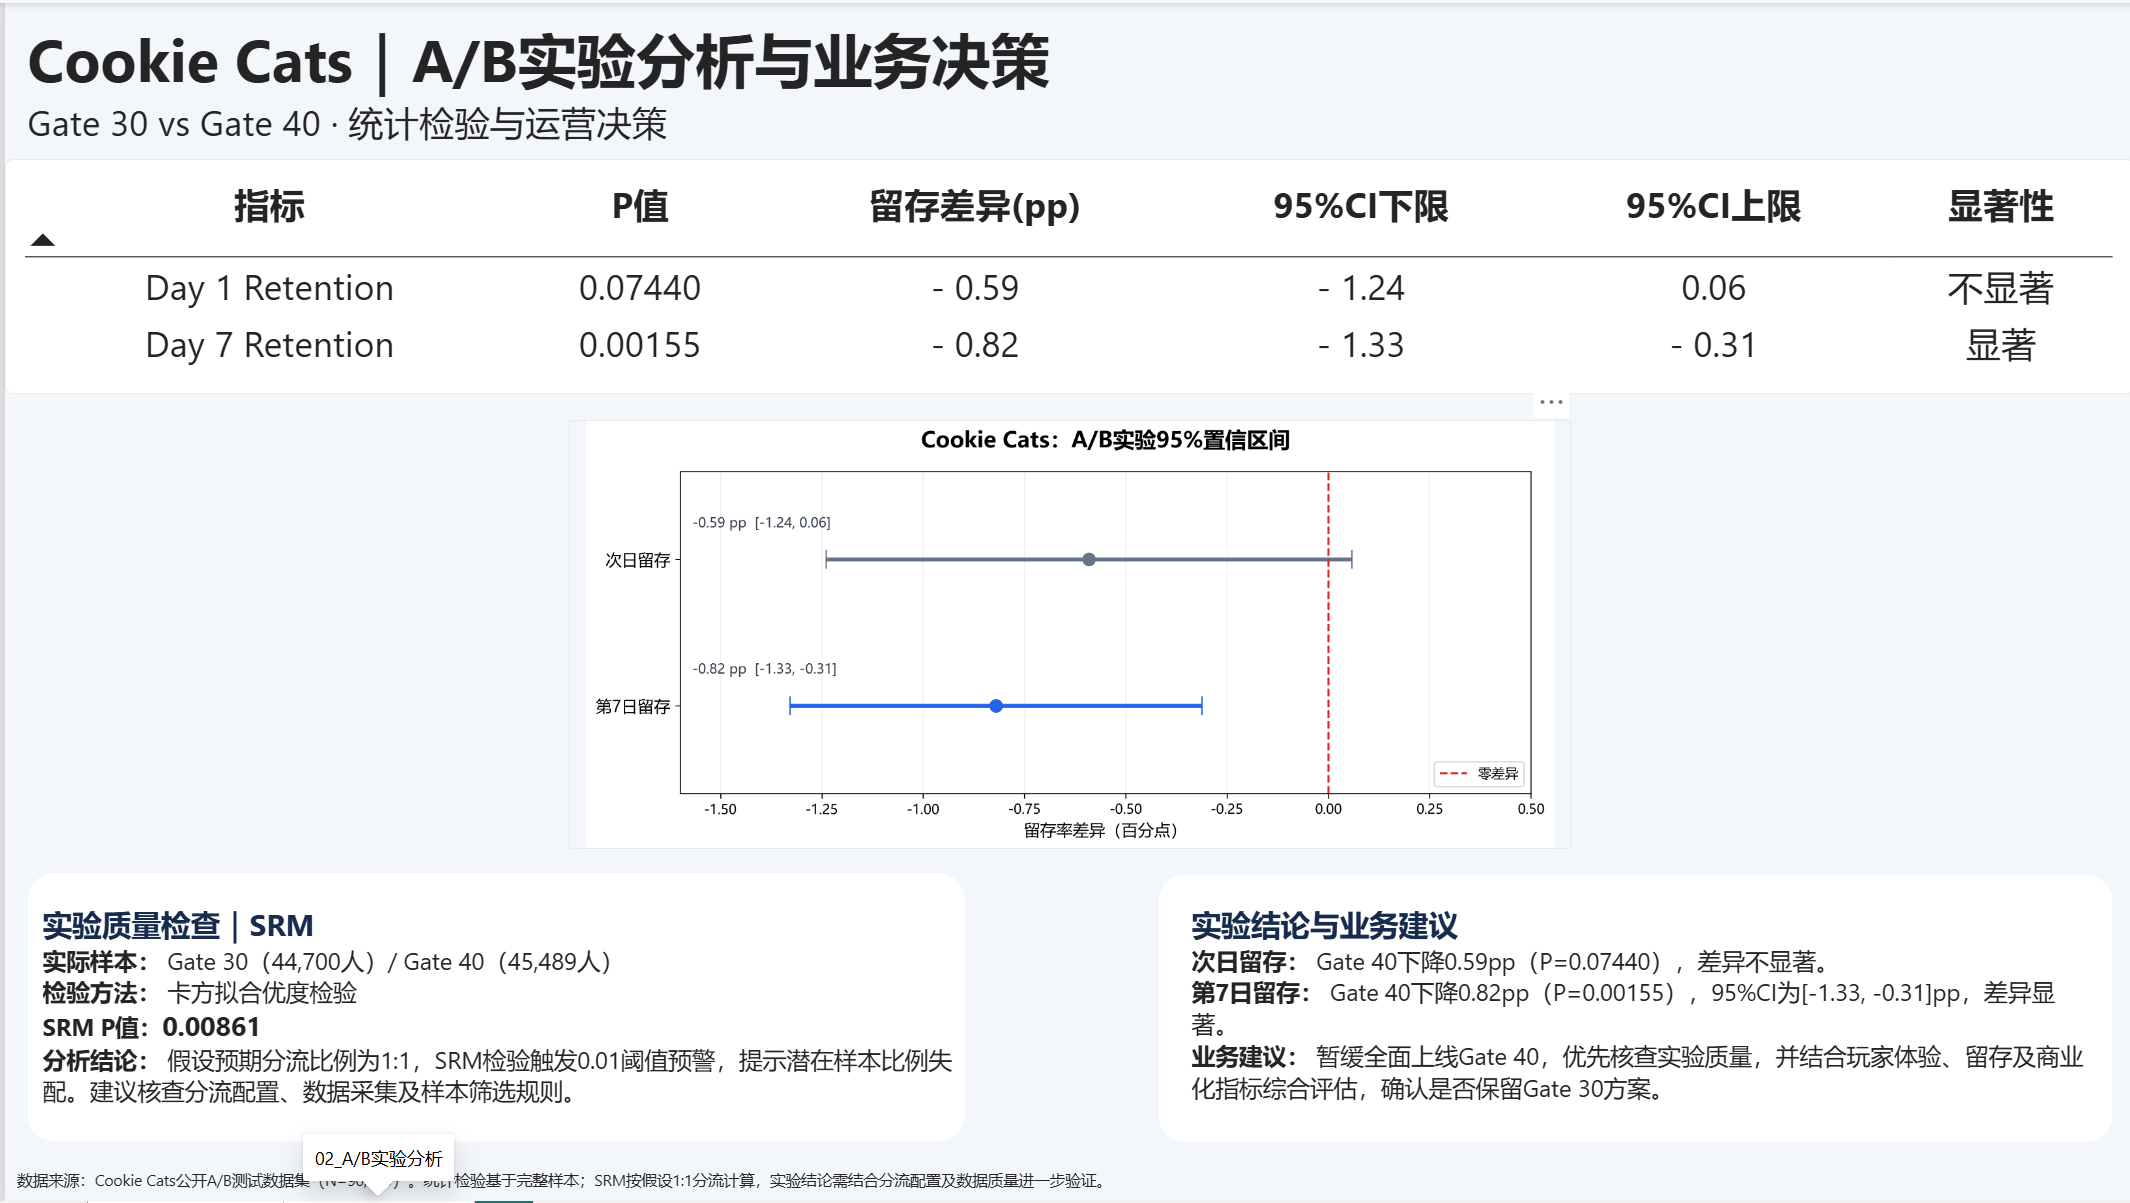

The page's visual inventory and layout, read from the dashboard file:
{"tool":"powerbi","page":{"name":"02_A/B实验分析","canvas":[1920,1080],"ordinal":1},"visuals":[{"type":"shape","box":[1040.5,785.2,860.1,241.4],"z":0},{"type":"shape","box":[20.2,784.7,845.2,241.9],"z":1000},{"type":"tableEx","fields":{"Values":["AB_Test_Results.指标","AB_Test_Results.P值","AB_Test_Results.差异_pp","AB_Test_Results.CI下限_pp","AB_Test_Results.CI上限_pp","AB_Test_Results.显著性判断"]},"box":[0,141.1,1920,212.3],"z":2000},{"type":"textbox","box":[34.1,812.7,831.3,214],"z":3000},{"type":"textbox","box":[1069.6,812.9,812.9,179],"z":4000},{"type":"textbox","box":[20.8,13.9,1502.4,127.6],"z":5000},{"type":"image","box":[508.7,375.3,903.1,387.1],"z":6000},{"type":"textbox","box":[11.1,1050.2,1029.4,30.5],"z":7000}]}

Visuals, with their boxes in screenshot pixels (x1, y1, x2, y2), scaled from the page's 1920x1080 canvas onto the 2130x1203 screenshot:
shape: <region>1154, 875, 2108, 1144</region>
shape: <region>22, 874, 960, 1144</region>
tableEx - AB_Test_Results.指标 x AB_Test_Results.P值: <region>0, 157, 2129, 394</region>
textbox: <region>38, 905, 960, 1144</region>
textbox: <region>1187, 905, 2088, 1105</region>
textbox: <region>23, 15, 1690, 158</region>
image: <region>564, 418, 1566, 849</region>
textbox: <region>12, 1170, 1154, 1202</region>
